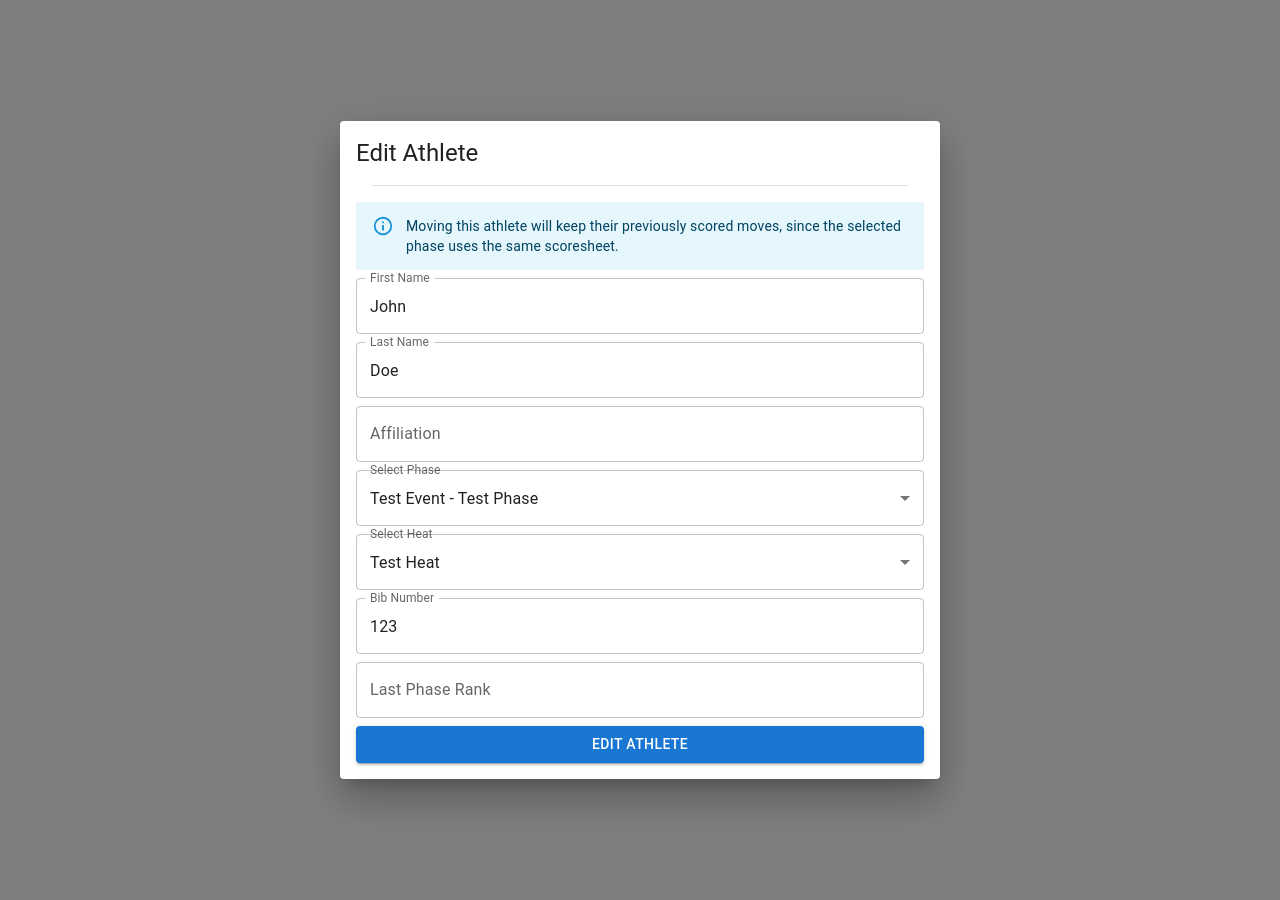
Test: HeatAthleteTable › shows a warning when the selected phase uses a different scoresheet
Check: the heading "Edit Athlete" is shown, box [356, 139, 478, 167]
Check: the text "will keep their previously scored moves" is shown, box [406, 218, 901, 254]
Step 1. Click the dropdown labelled "Test Event - Test Phase" → click(454, 498), box [370, 489, 538, 508]
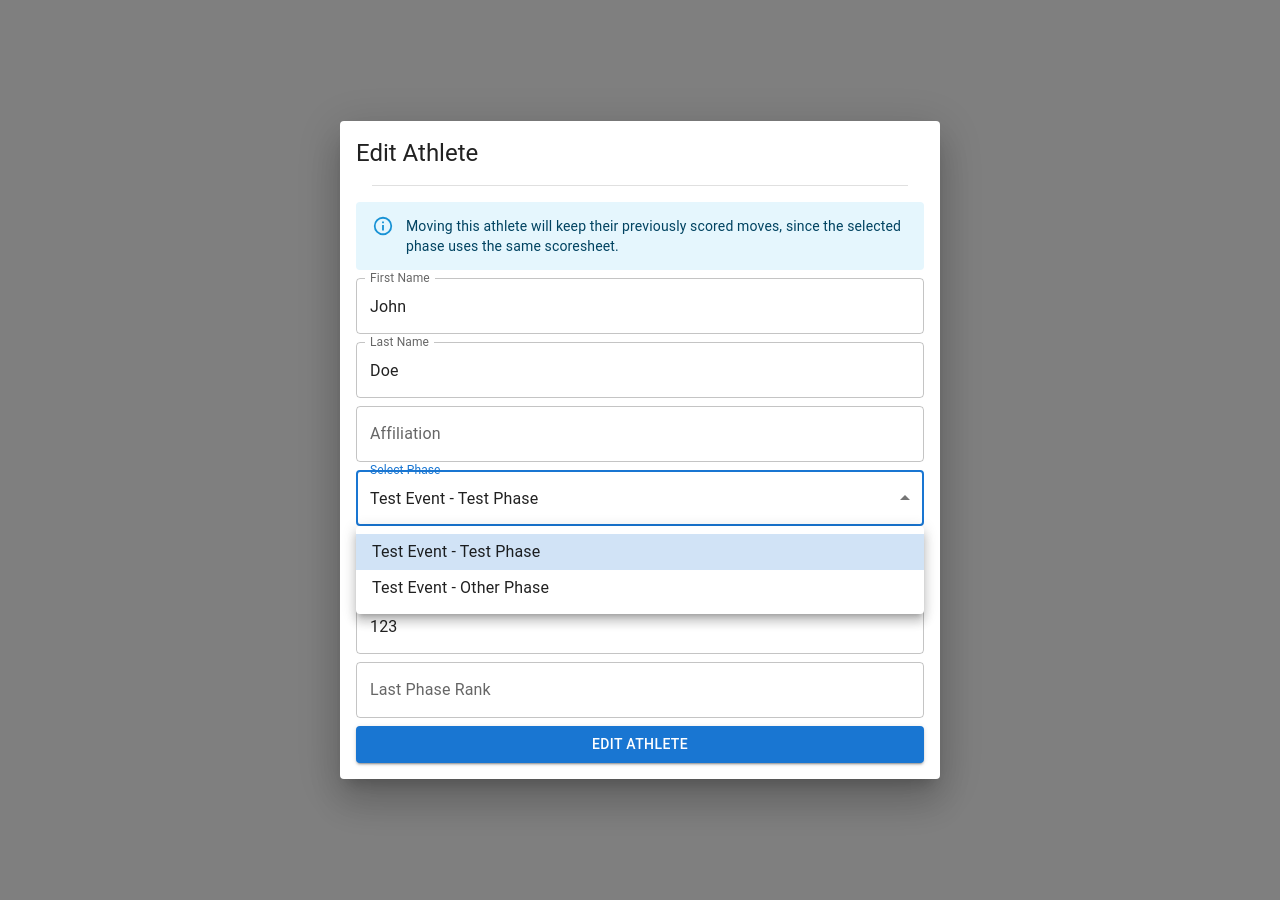
Step 2. Click the option "Test Event - Other Phase" → click(461, 588), box [372, 578, 549, 597]
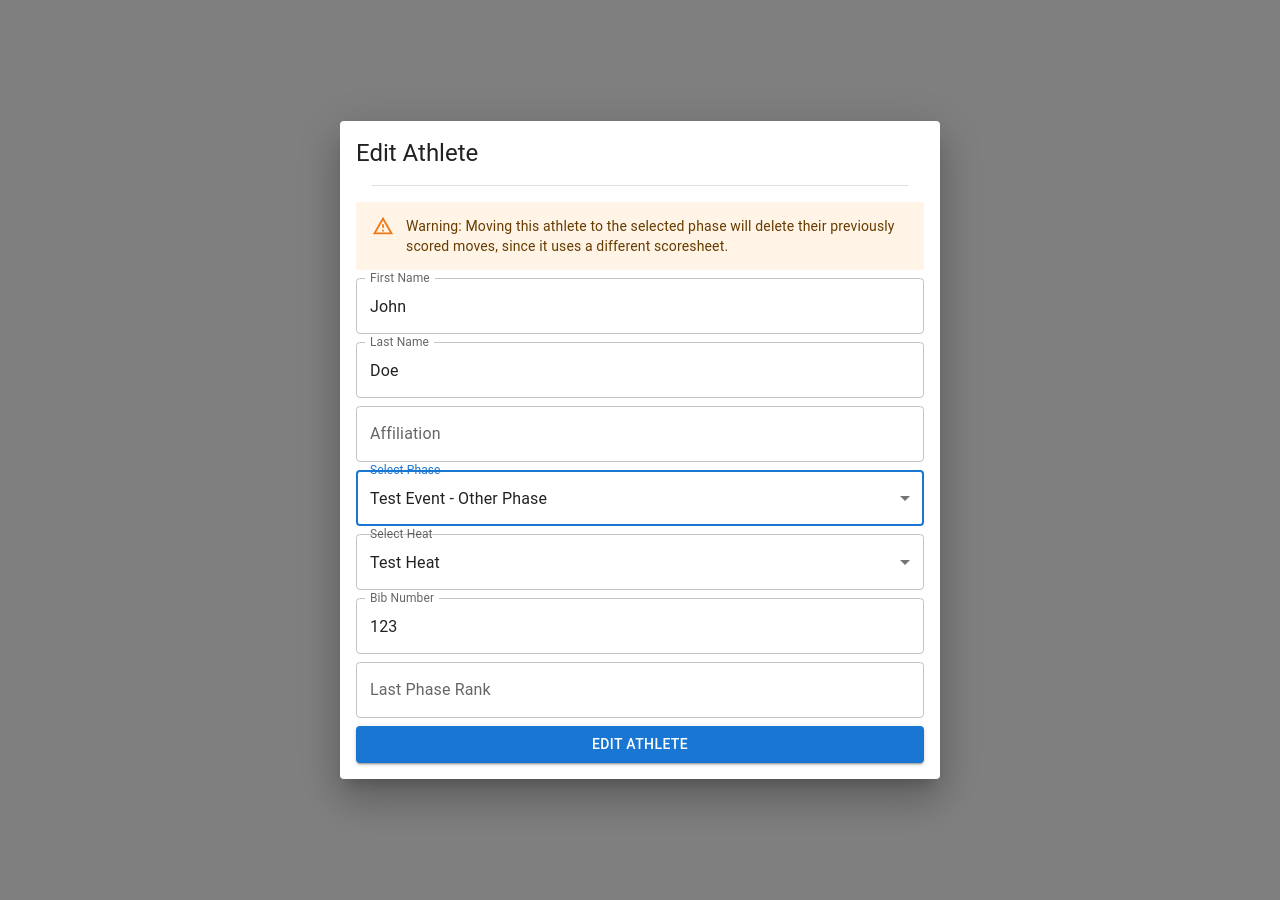
Check: the text "will delete their previously scored moves, since it uses a different scoresheet" is shown, box [406, 218, 895, 254]
